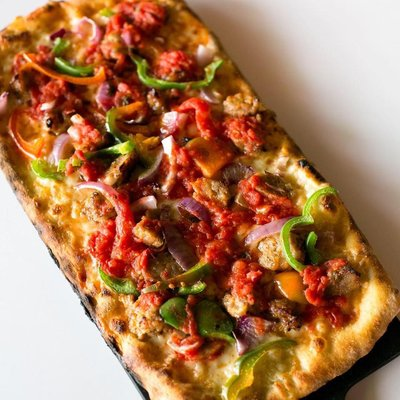sandwich: (1, 0, 400, 400)
